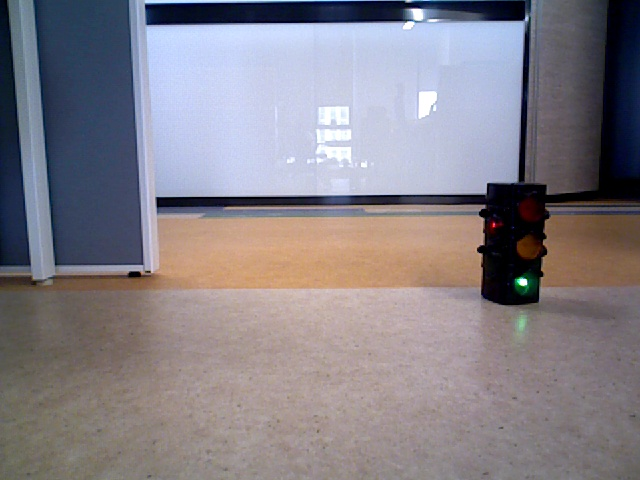green: (486, 184, 538, 303)
